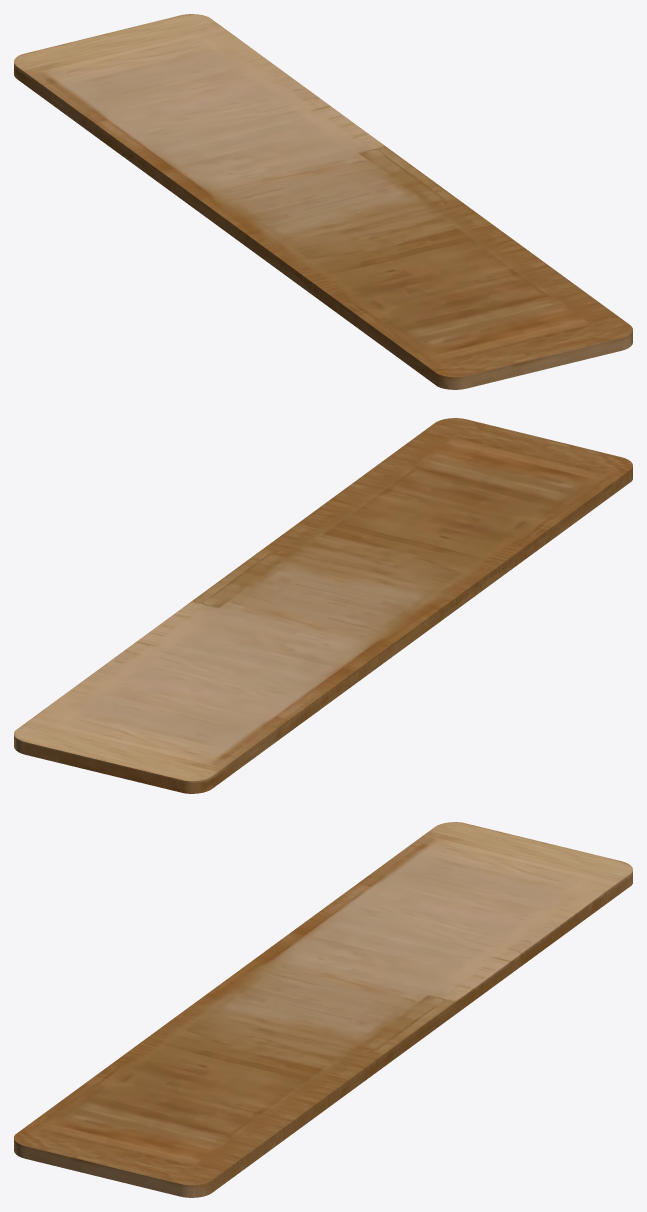
The model's file is intake_door__door_frame.glb.
3 views of the same model, one above another, from view 1: azimuth 30°, elevation 25°; view 2: azimuth 150°, elevation 25°; view 3: azimuth 330°, elevation 25° (orthographic).
Parts seen in each view (by area): view 1: geometry_0; view 2: geometry_0; view 3: geometry_0.
Boxes of the visible parts, <box> form: geometry_0: <box>14,14,632,389</box>; geometry_0: <box>14,418,632,793</box>; geometry_0: <box>14,822,632,1197</box>.
Bounding box in the file's own units: 0.194 × 0.012 × 0.76.
Materials: 1 (1 with a texture image).
